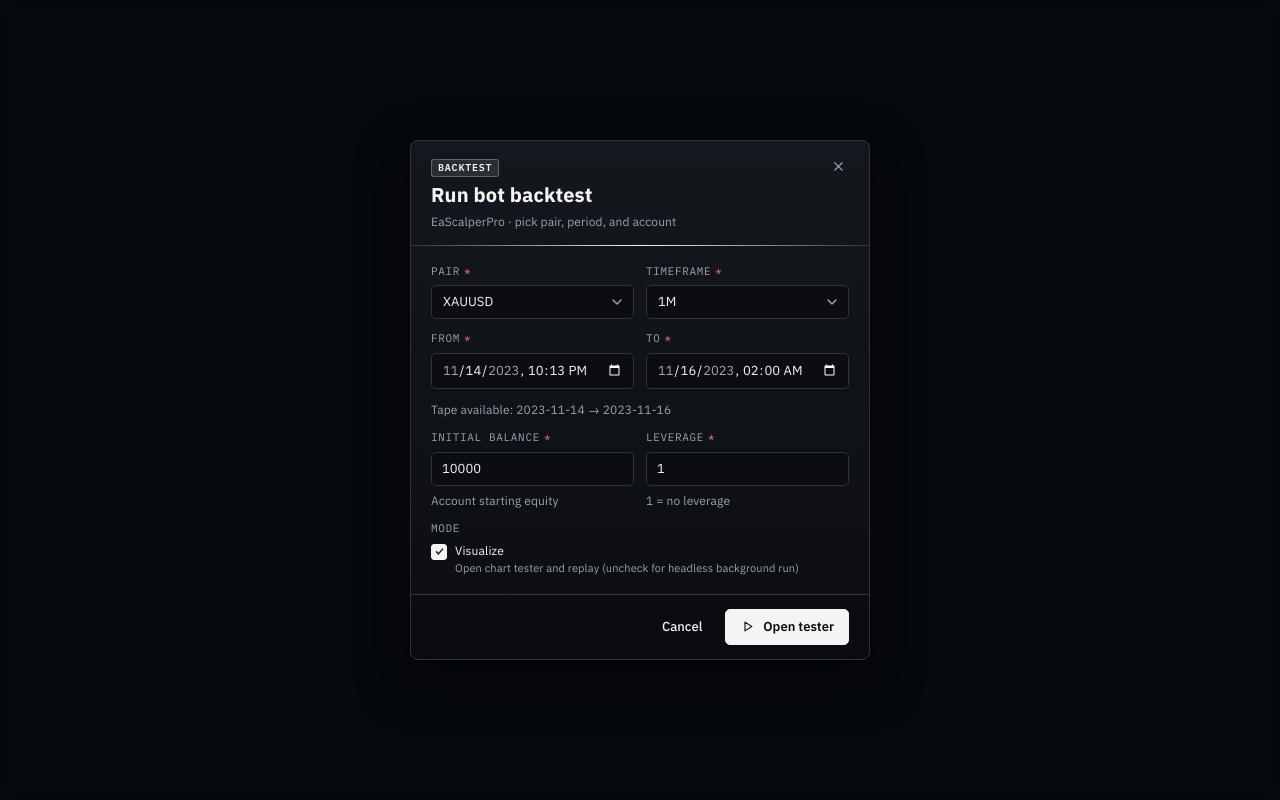
Test: Empirical Challenger M4: Panels, Desks, Buttons & Forms Stress Suite › BotBacktestModal: Mode Transitions, Visualize Toggle & Form Validation › dynamically toggles visualize mode and updates submit button label accordingly
This screenshot has width=1280, height=800.
Check: the button "Open tester" is shown, box [725,609,849,645]
Toggle visualize off
Click the checkbox named "visualize".
click(446, 529)  # box [431,521,460,537]
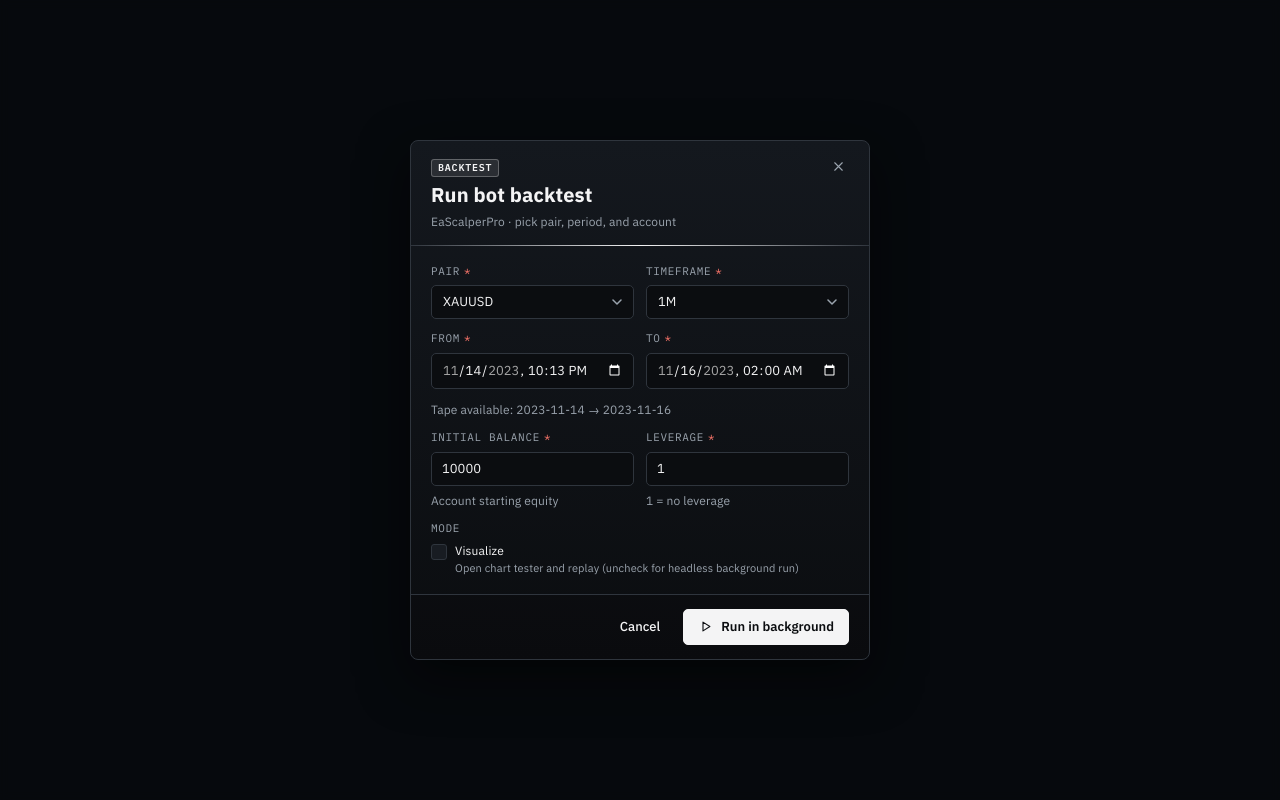
Check: the button "Run in background" is shown, box [683,609,849,645]
Check: the button "Open tester" is gone
Toggle visualize on again
Click the checkbox named "visualize".
click(446, 529)  # box [431,521,460,537]
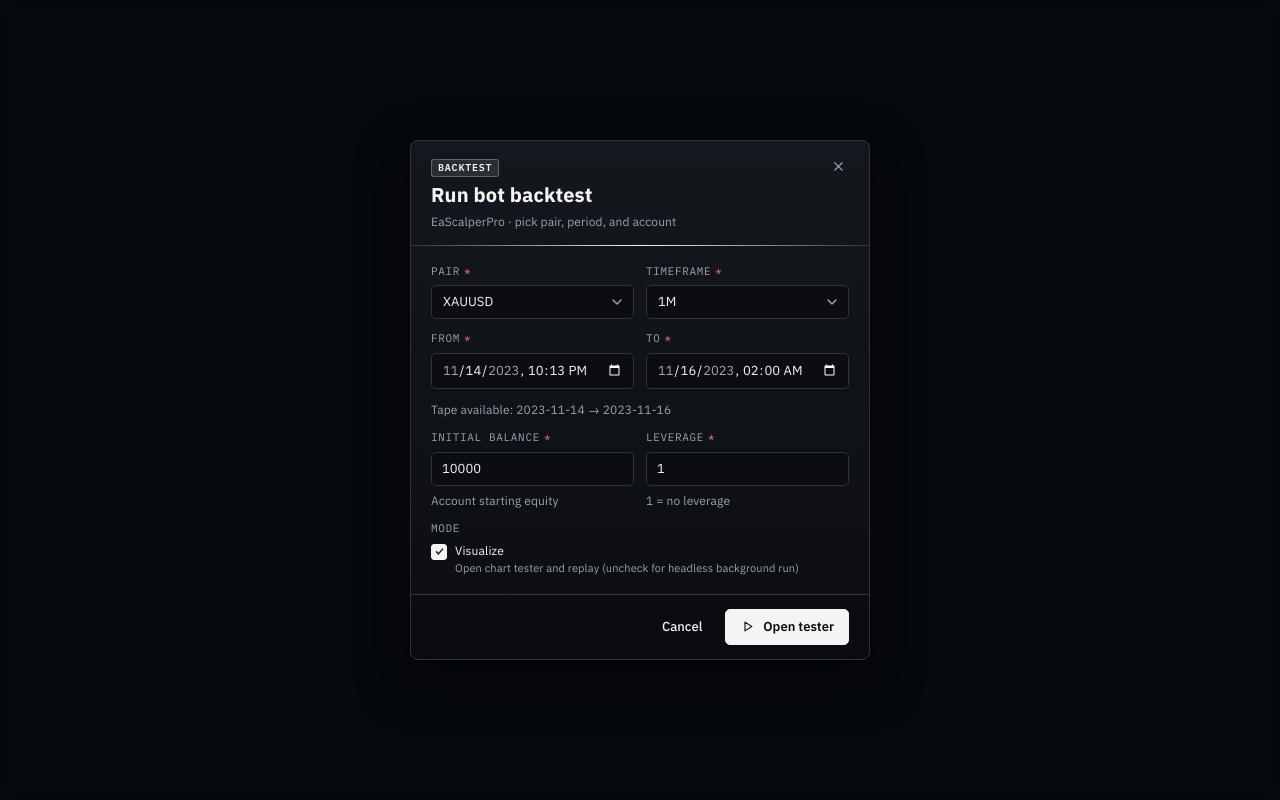
Check: the button "Open tester" is shown, box [725,609,849,645]
